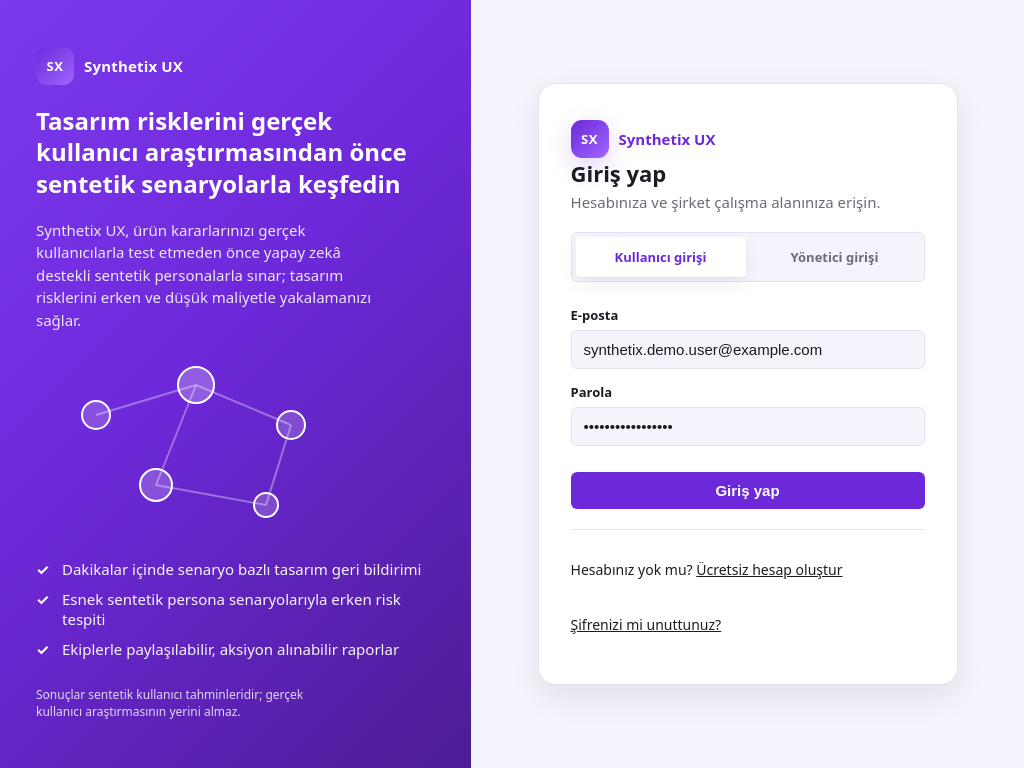
Test: Login giriş türleri › aynı sayfada yönetici girişine geçer ve kullanıcı kayıt bağlantısını gizler
This screenshot has width=1024, height=768.
Check: the heading "Giriş yap" is shown, box left=570, top=158, right=666, bottom=188
What coordinates should you click on to do the following:
click the tab "Yönetici girişi"
I would click on:
 (834, 257)
Its box is left=750, top=237, right=920, bottom=277.
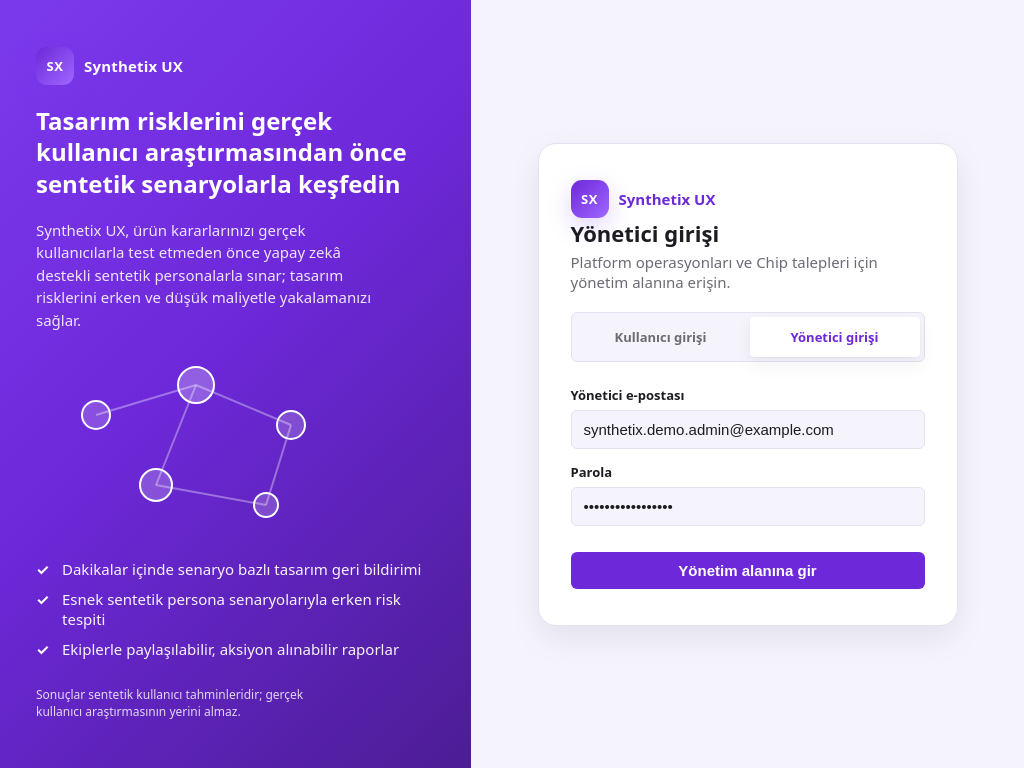
Check: the heading "Yönetici girişi" is shown, box left=570, top=218, right=719, bottom=248
Check: the field labelled "Yönetici e-postası" holds "synthetix.demo.admin@example.com", box left=570, top=410, right=924, bottom=448
Check: the button "Yönetim alanına gir" is shown, box left=570, top=552, right=924, bottom=588
